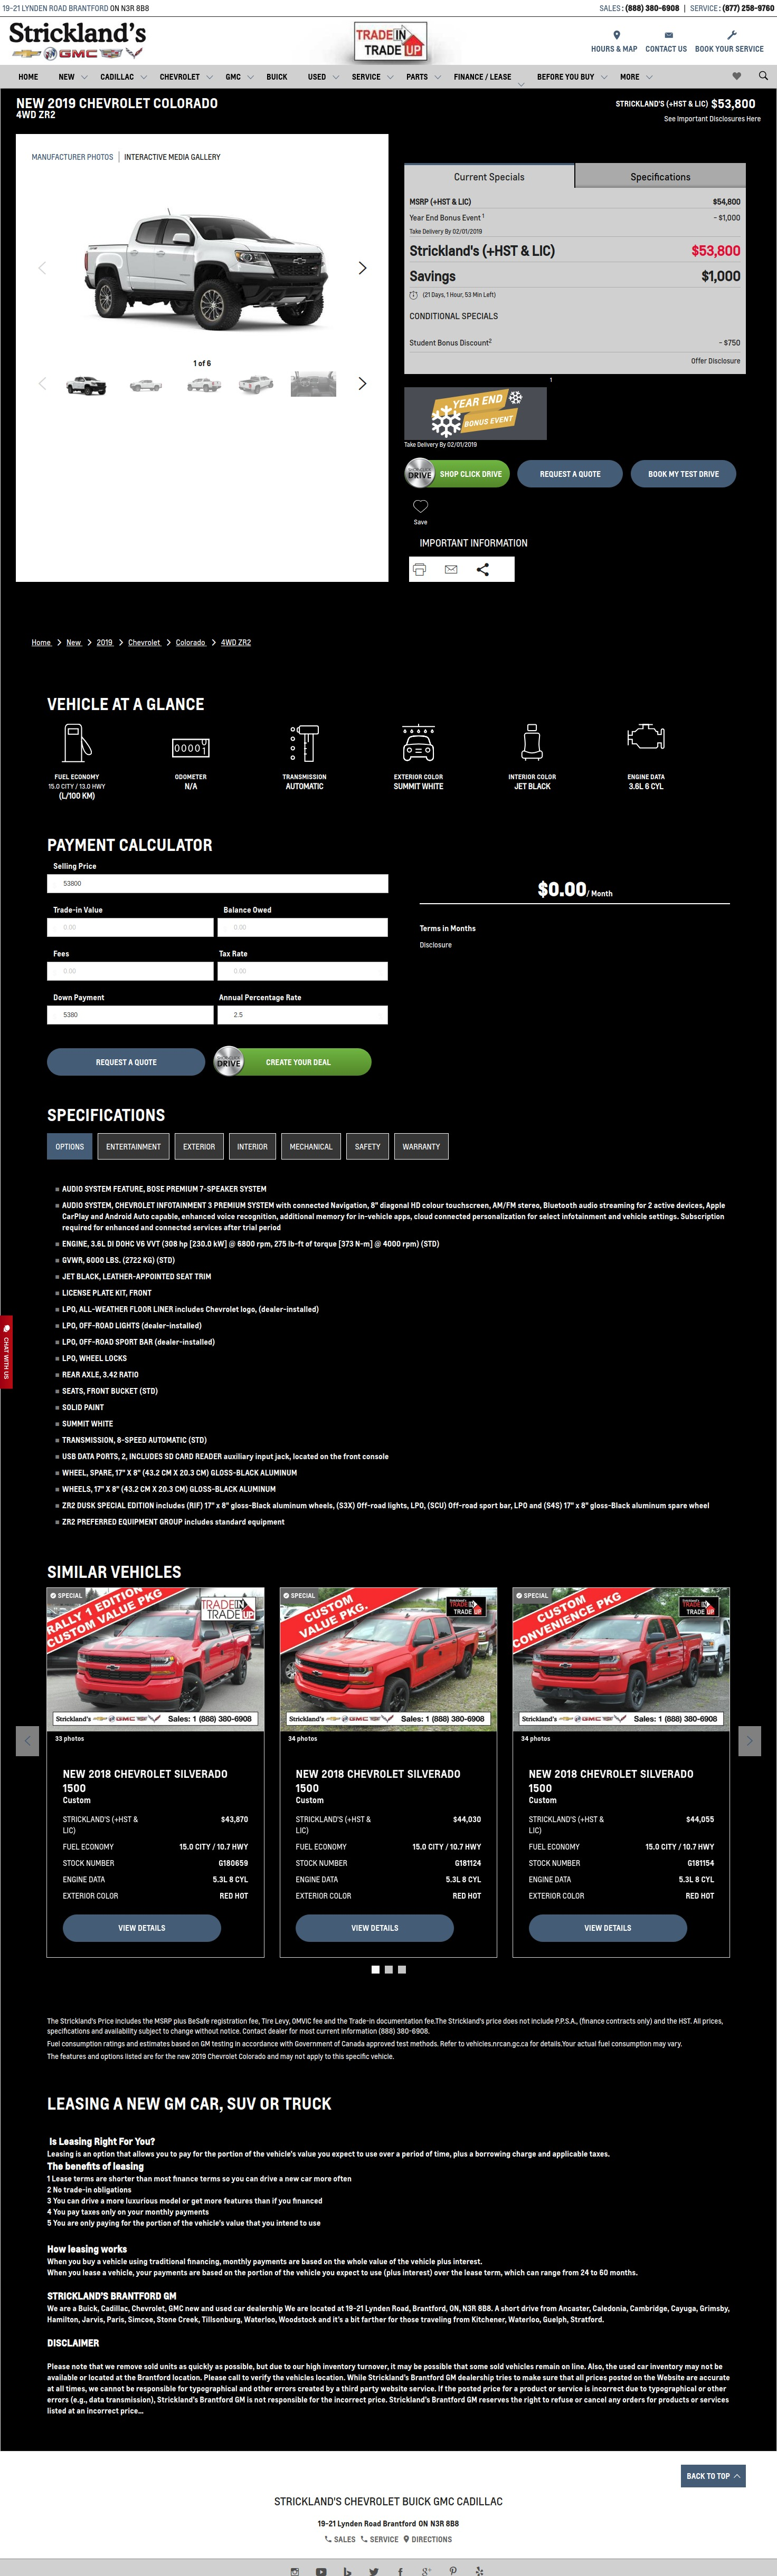car: (358, 378, 368, 391)
